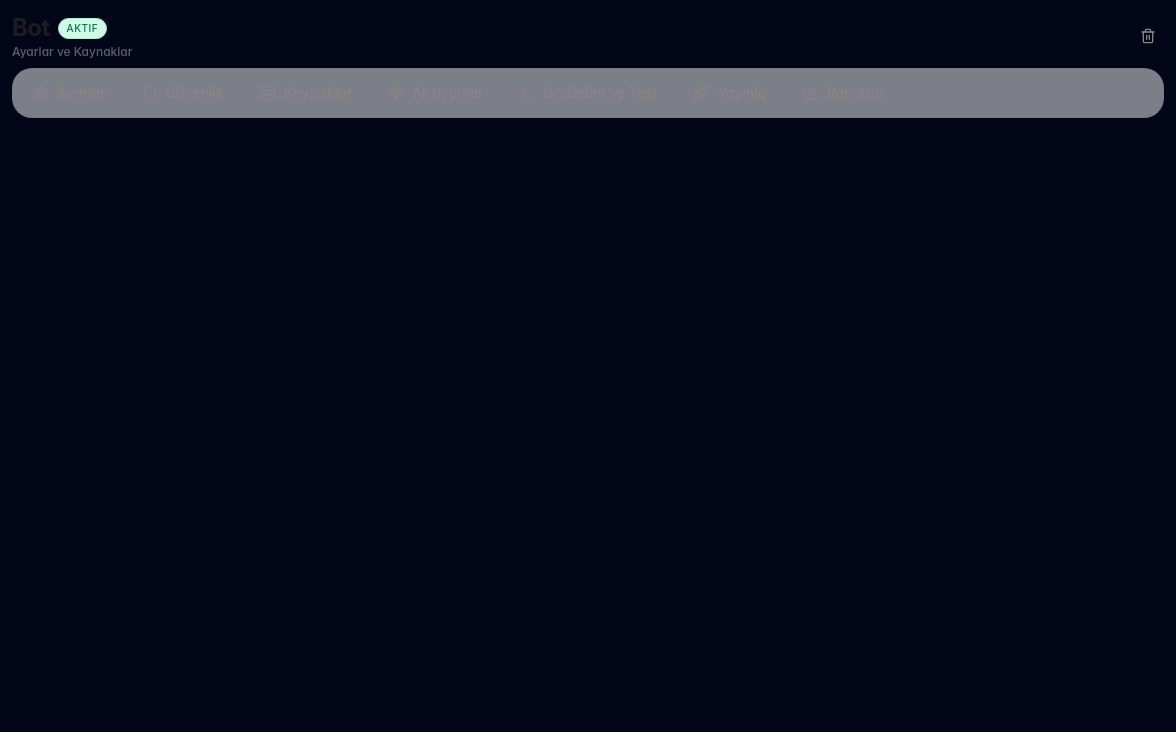
Test: ChatbotDetailPage validate & delete branches › shows error toast when delete fails
This screenshot has width=1176, height=732.
Click the button named "Sil" at (1148, 36), box x1=1132 y1=20 x2=1164 y2=52
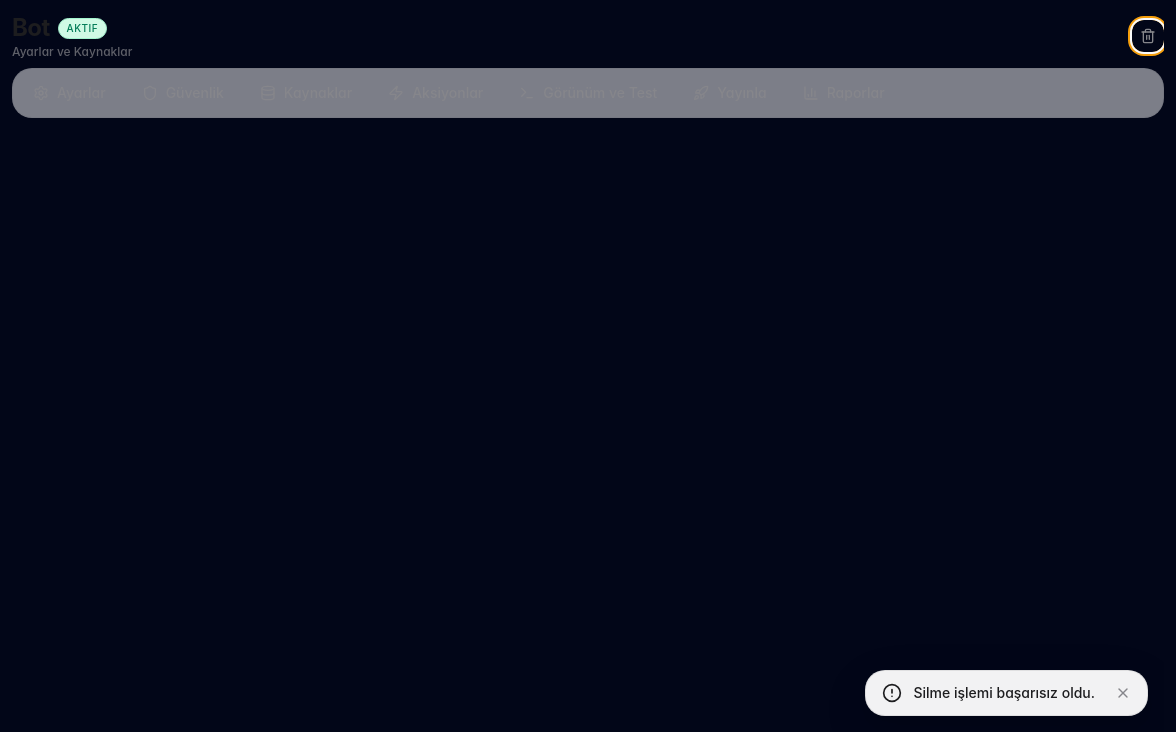
Expected: the text "Silme işlemi başarısız oldu." is shown, x1=914 y1=683 x2=1095 y2=703
